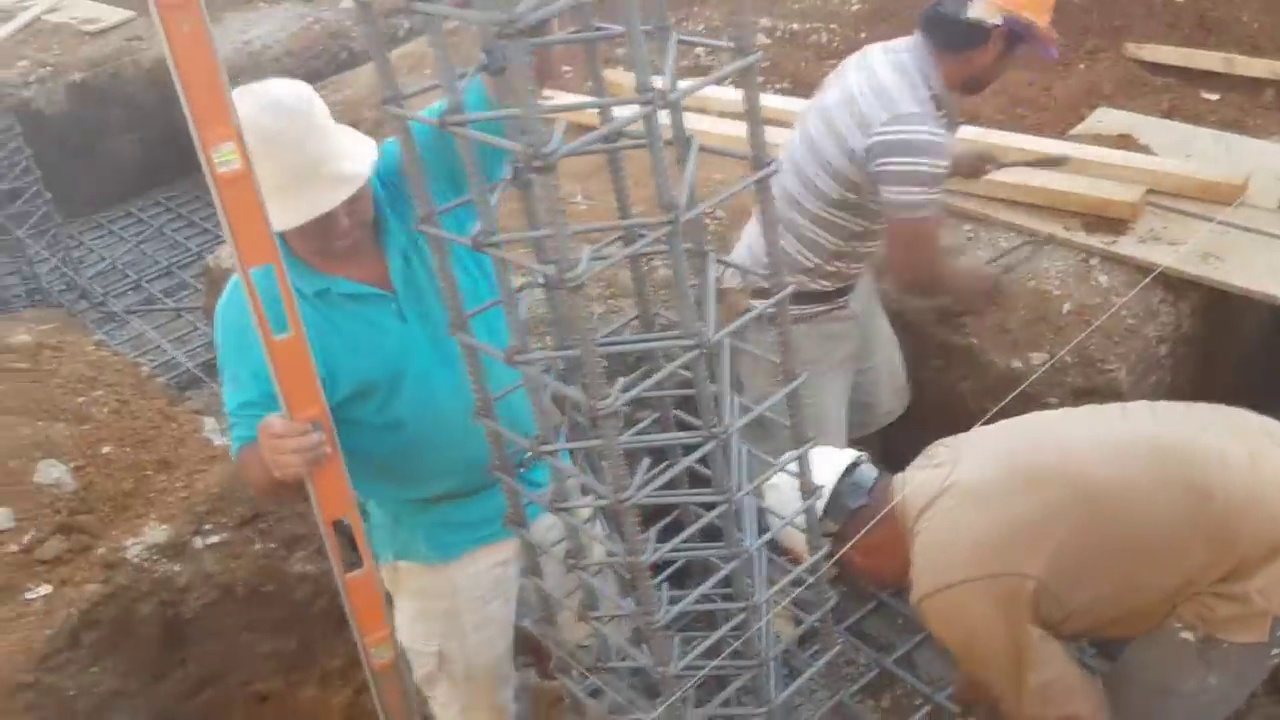helmet: (762, 445, 872, 576)
helmet-off: (217, 78, 377, 270), (923, 2, 1044, 95)
helmet-on: (762, 436, 933, 604)
person: (186, 49, 590, 712), (736, 405, 1280, 720), (721, 0, 1063, 452)
